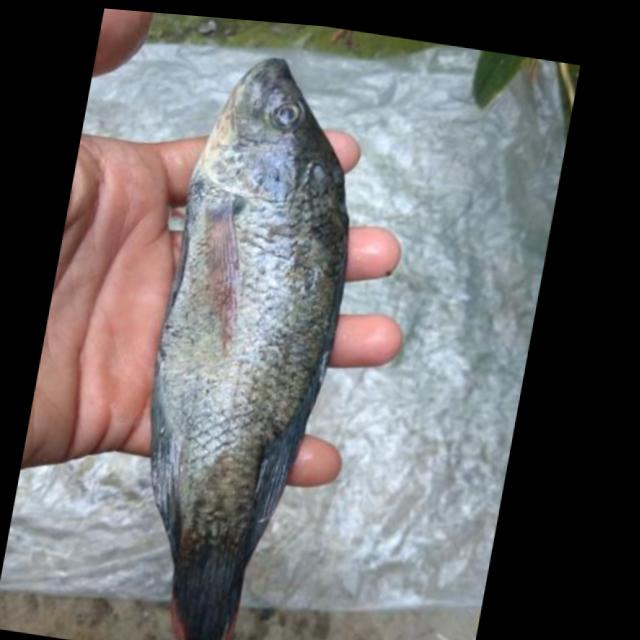Tilapia: (100, 39, 384, 640)
